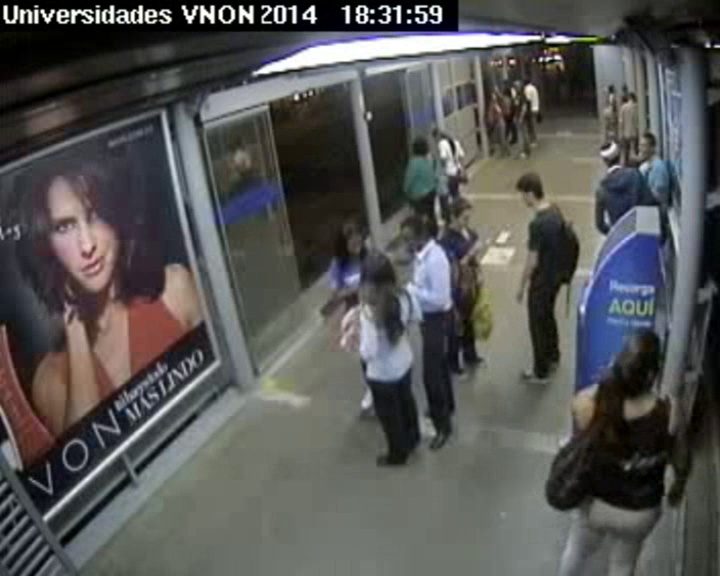person: (612, 326, 672, 393), (356, 252, 402, 296), (335, 216, 370, 258), (399, 214, 433, 251), (515, 172, 548, 208), (596, 136, 626, 170), (446, 197, 475, 232), (636, 132, 661, 161), (411, 135, 428, 155), (433, 124, 449, 142), (513, 88, 523, 99), (627, 91, 636, 103), (490, 92, 498, 102), (504, 87, 512, 95), (608, 84, 616, 92), (524, 77, 532, 84), (512, 75, 520, 82)
